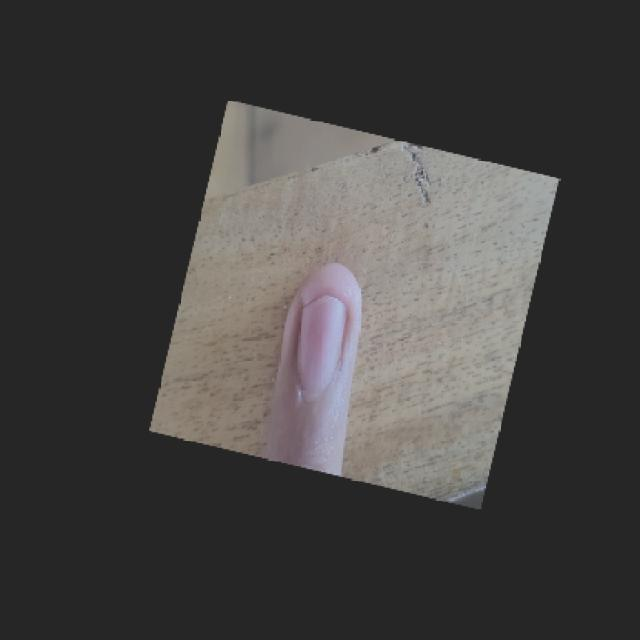Nail: (298, 296, 346, 393)
